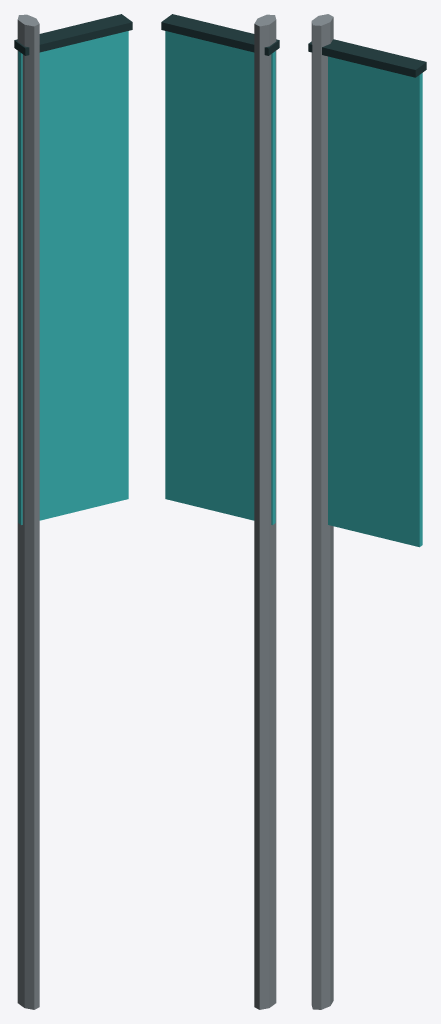
Rendered from flagpole_banner.fbx.
3 views of the same model, side by side, from view 1: azimuth 30°, elevation 25°; view 2: azimuth 150°, elevation 25°; view 3: azimuth 330°, elevation 25° (orthographic).
Parts seen in each view (by area): view 1: flagpole_banner; view 2: flagpole_banner; view 3: flagpole_banner.
Boxes of the visible parts, bbox=[...] form: flagpole_banner: bbox=[14, 14, 132, 1009]; flagpole_banner: bbox=[161, 14, 279, 1009]; flagpole_banner: bbox=[308, 14, 426, 1009].
Size of the model in its own units: 0.8 by 7 by 0.2.
